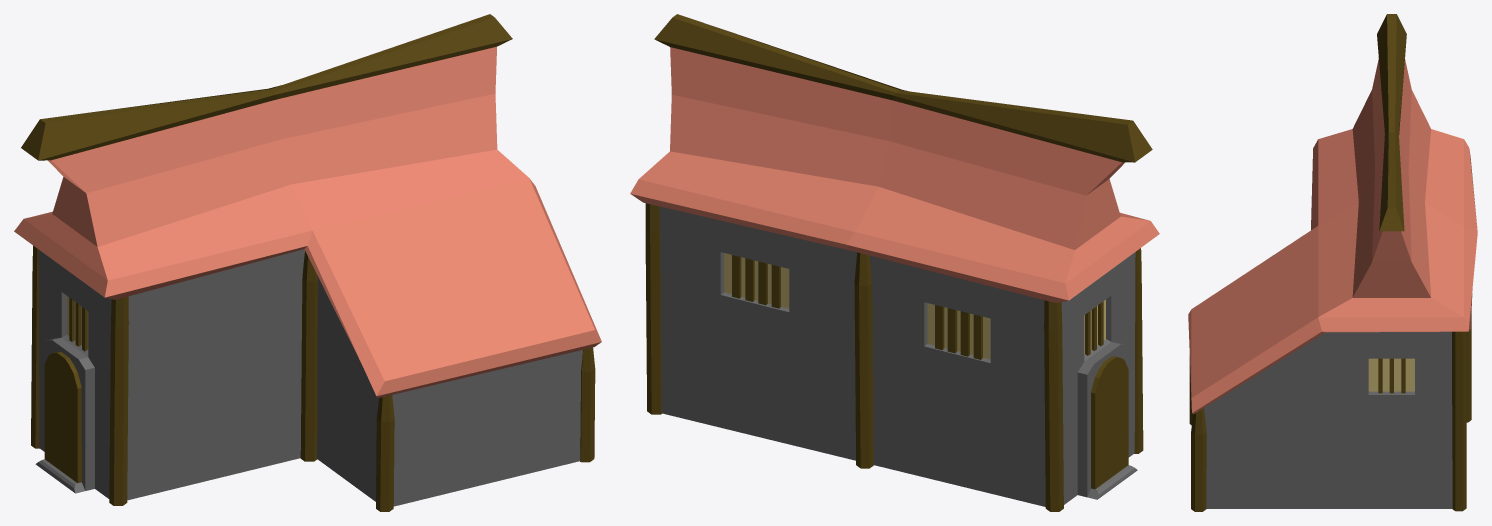
3 renders of one model, left to right at view 1: azimuth 30°, elevation 25°; view 2: azimuth 150°, elevation 25°; view 3: azimuth 270°, elevation 25°, orthographic. The views are drawn at different scales.
Parts seen in each view (by area): view 1: ev1.001, ev1, Cylinder.001, Cylinder, Cylinder.004, Cylinder.005, Cylinder.002; view 2: ev1, ev1.001, Cylinder.002, Cylinder.006, Cylinder.003, Cylinder.001; view 3: ev1.001, ev1, Cylinder.003, Cylinder.005, Cylinder.006.
Boxes of the visible parts, bbox=[...] form: ev1.001: bbox=[14, 46, 601, 397]; ev1: bbox=[21, 14, 582, 506]; Cylinder.001: bbox=[109, 296, 128, 505]; Cylinder: bbox=[300, 251, 317, 461]; Cylinder.004: bbox=[376, 395, 394, 511]; Cylinder.005: bbox=[580, 347, 595, 462]; Cylinder.002: bbox=[31, 245, 39, 448]; ev1: bbox=[654, 14, 1152, 506]; ev1.001: bbox=[630, 47, 1159, 302]; Cylinder.002: bbox=[1044, 300, 1063, 511]; Cylinder.006: bbox=[854, 252, 873, 468]; Cylinder.003: bbox=[645, 203, 661, 414]; Cylinder.001: bbox=[1134, 248, 1143, 453]; ev1.001: bbox=[1188, 58, 1477, 413]; ev1: bbox=[1204, 14, 1452, 508]; Cylinder.003: bbox=[1452, 331, 1466, 511]; Cylinder.005: bbox=[1191, 408, 1206, 511]; Cylinder.006: bbox=[1466, 314, 1471, 422].
Size of the model in its own units: 1862 by 1350 by 1132.
